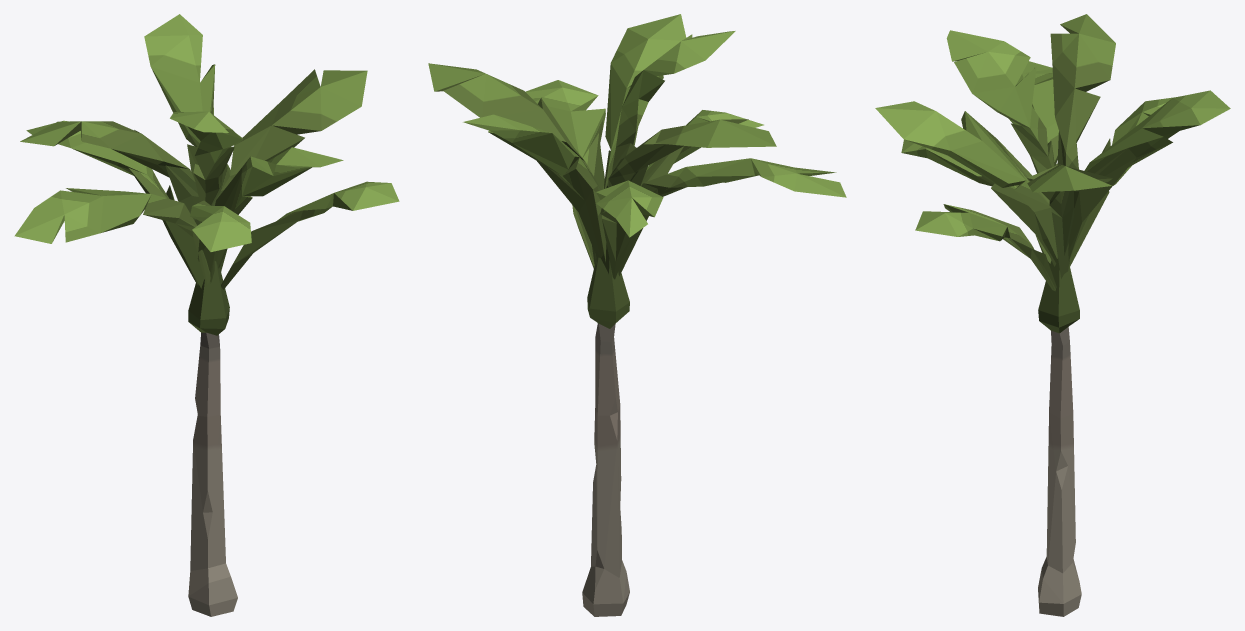
File: SM_Env_Tree_02.glb
3 renders of one model, left to right at view 1: azimuth 30°, elevation 25°; view 2: azimuth 150°, elevation 25°; view 3: azimuth 270°, elevation 25°, orthographic. The views are drawn at different scales.
Parts seen in each view (by area): view 1: SM_Env_Tree_02; view 2: SM_Env_Tree_02; view 3: SM_Env_Tree_02.
Boxes of the visible parts, box(x1,y1,x2,y2) form: SM_Env_Tree_02: box(14, 14, 399, 616); SM_Env_Tree_02: box(428, 14, 846, 616); SM_Env_Tree_02: box(875, 14, 1230, 616).
Bounding box in the file's own units: 4.98 × 6.83 × 4.01.
1 material, 1 textured.
